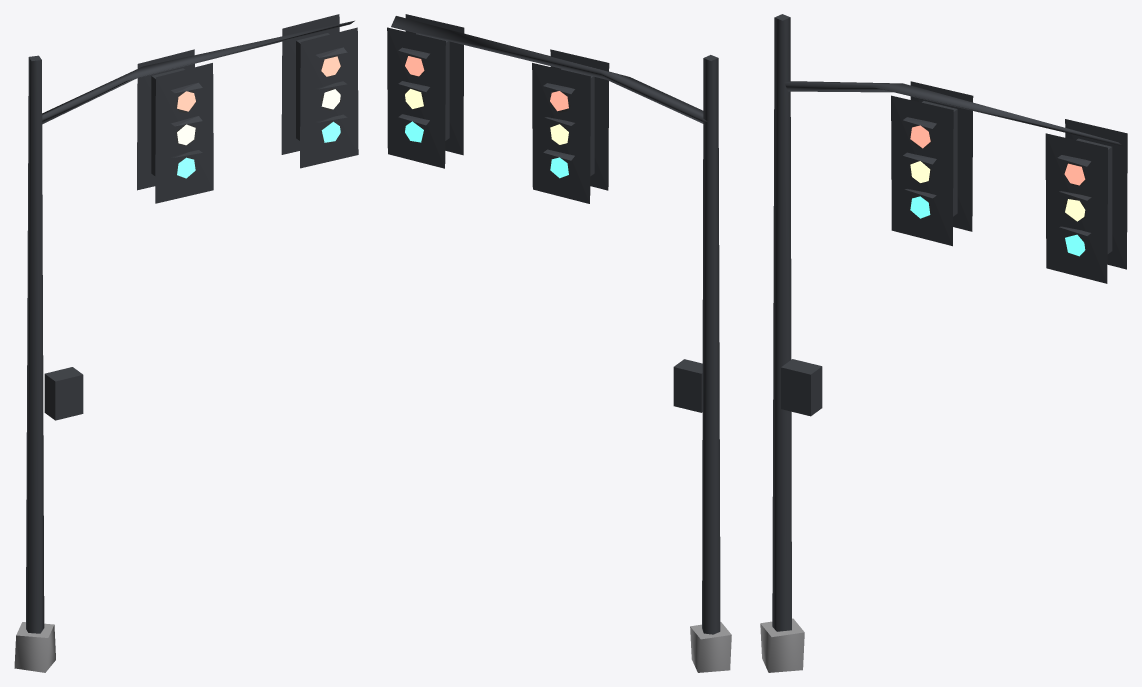
The model's file is prop_street_signal_lod1.glb.
3 renders of one model, left to right at view 1: azimuth 30°, elevation 25°; view 2: azimuth 150°, elevation 25°; view 3: azimuth 330°, elevation 25°, orthographic. The views are drawn at different scales.
Parts seen in each view (by area): view 1: signal_pole_lod1, signal_lens_red_lod1, signal_lens_green_lod1, signal_lens_amber_lod1, signal_off_lod1; view 2: signal_pole_lod1, signal_lens_green_lod1, signal_lens_amber_lod1, signal_lens_red_lod1, signal_off_lod1; view 3: signal_pole_lod1, signal_lens_red_lod1, signal_lens_green_lod1, signal_lens_amber_lod1, signal_off_lod1.
Part boxes in pixels (box(x1,y1,x2,y2)): signal_pole_lod1: box(14, 14, 358, 672); signal_lens_red_lod1: box(177, 56, 340, 111); signal_lens_green_lod1: box(177, 121, 340, 178); signal_lens_amber_lod1: box(177, 89, 340, 145); signal_off_lod1: box(175, 55, 341, 179); signal_pole_lod1: box(387, 14, 731, 672); signal_lens_green_lod1: box(405, 121, 568, 178); signal_lens_amber_lod1: box(405, 89, 568, 144); signal_lens_red_lod1: box(405, 56, 568, 111); signal_off_lod1: box(404, 55, 570, 178); signal_pole_lod1: box(760, 14, 1127, 672); signal_lens_red_lod1: box(910, 125, 1085, 185); signal_lens_green_lod1: box(910, 196, 1085, 256); signal_lens_amber_lod1: box(910, 161, 1085, 221); signal_off_lod1: box(909, 124, 1086, 257).
Bounding box in the file's own units: 3.61 × 6.2 × 0.5.
